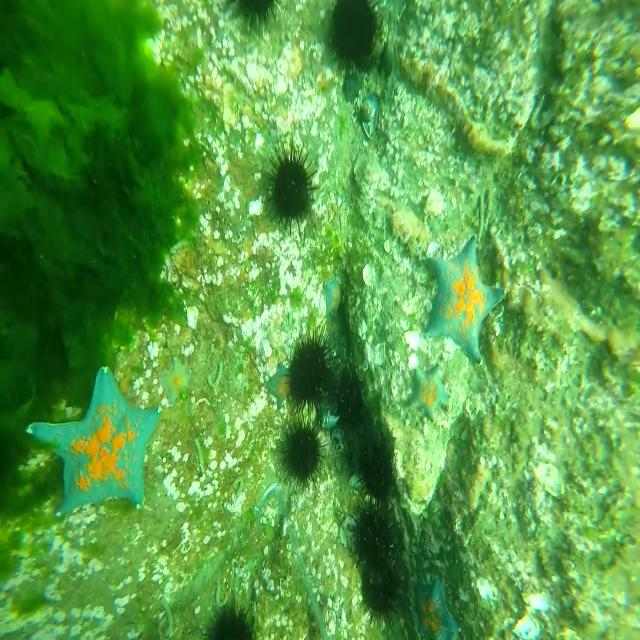echinus: (262, 145, 316, 238), (284, 320, 333, 409), (328, 0, 383, 75), (276, 416, 330, 489), (346, 501, 399, 559), (358, 561, 403, 629), (353, 436, 394, 502), (332, 368, 370, 434), (476, 439, 477, 441)
starfish: (21, 368, 155, 522), (424, 230, 506, 364), (415, 572, 461, 638), (411, 361, 447, 416), (158, 354, 191, 406), (266, 361, 298, 405), (319, 272, 346, 322)
